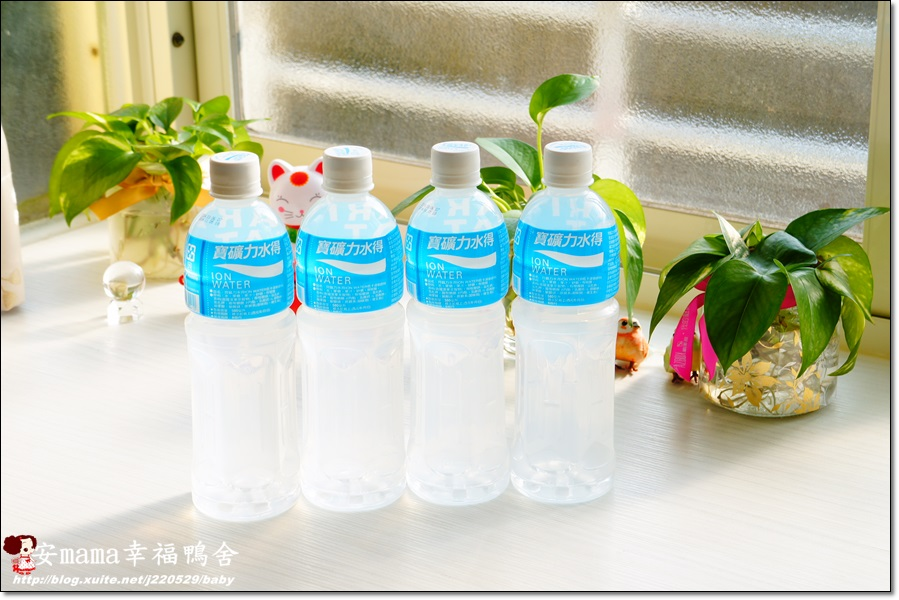POCARI SWEAT: (513, 136, 626, 502), (404, 139, 517, 505), (292, 146, 405, 512), (187, 148, 300, 514)
